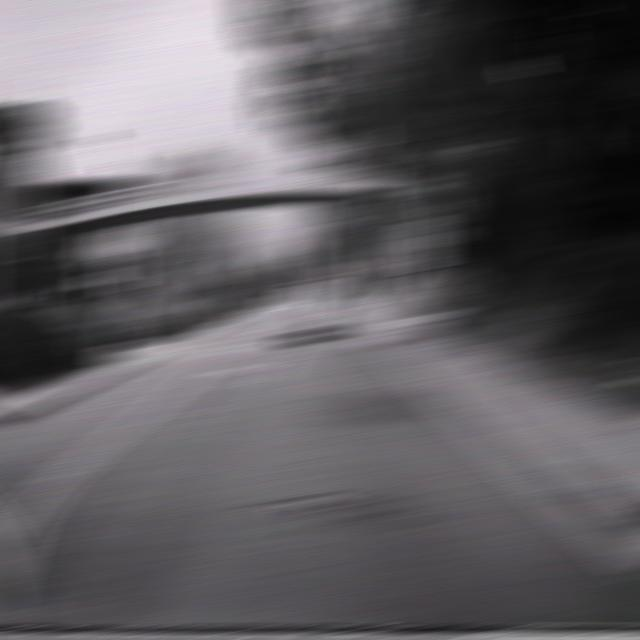pedestrianCrossing: (422, 178, 467, 229)
